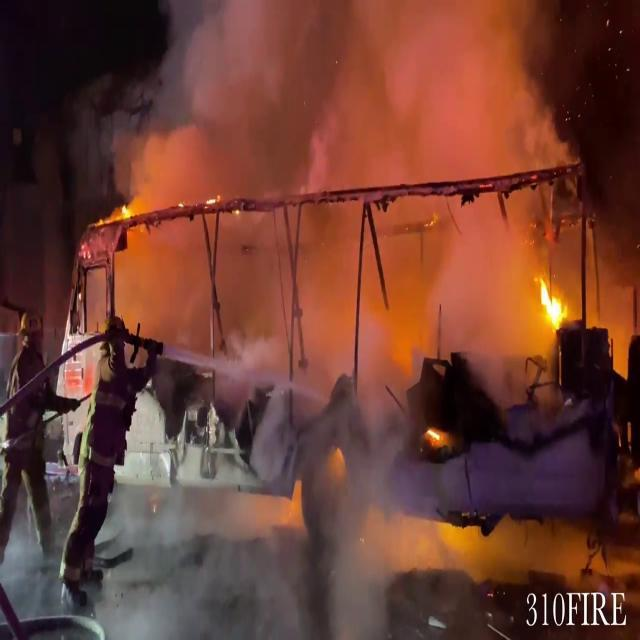Fire: (534, 268, 572, 337)
Smoke: (93, 1, 564, 380)
